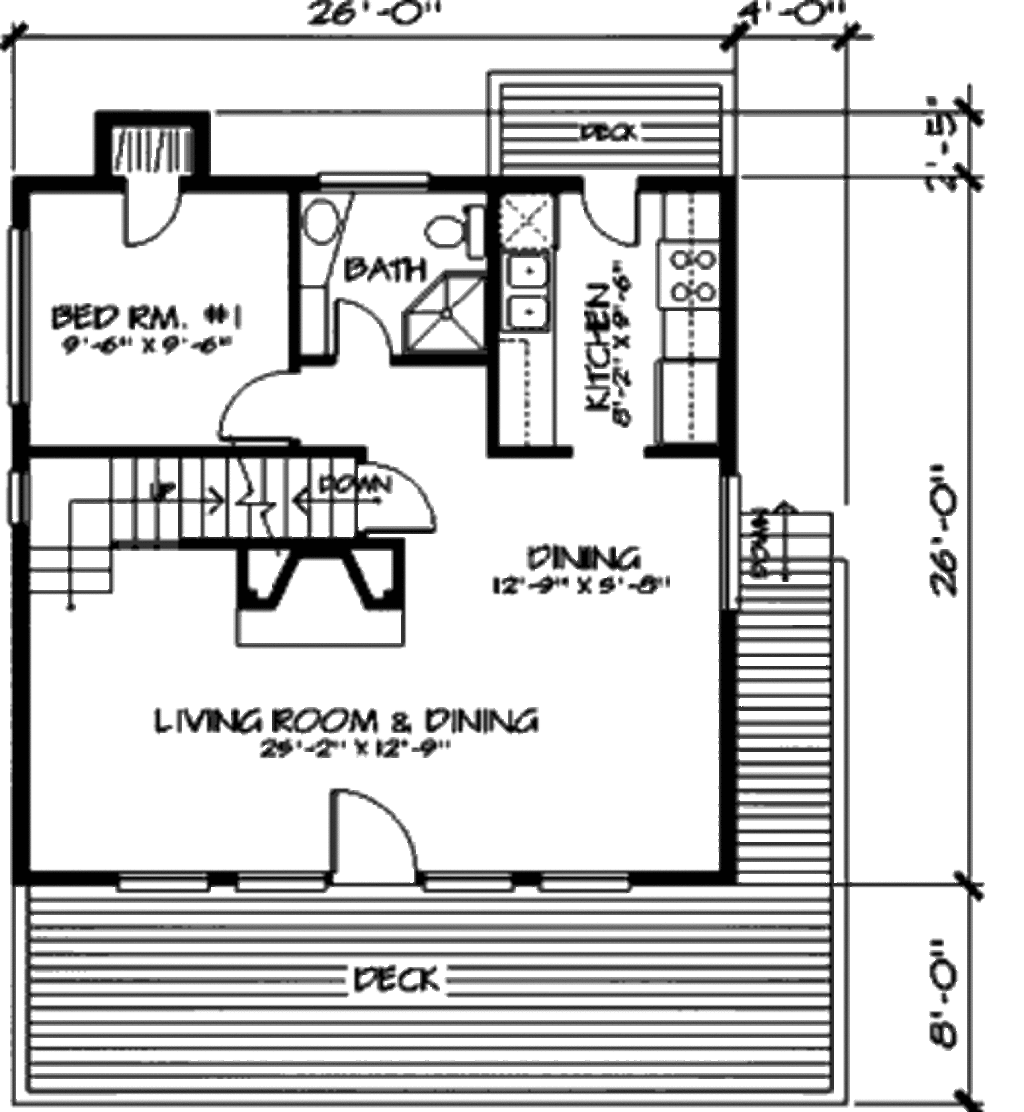door: (305, 774, 417, 889), (204, 367, 305, 443), (368, 462, 446, 538), (582, 172, 650, 255), (114, 179, 183, 247), (329, 297, 397, 362)
large_sink: (414, 206, 483, 258)
small_sink: (300, 196, 355, 258)
stairs: (29, 450, 361, 613), (738, 506, 839, 892)
twin_sink: (500, 247, 556, 331)
window: (527, 867, 633, 899), (119, 867, 219, 896), (321, 165, 429, 191), (236, 867, 334, 892), (422, 870, 519, 891)
